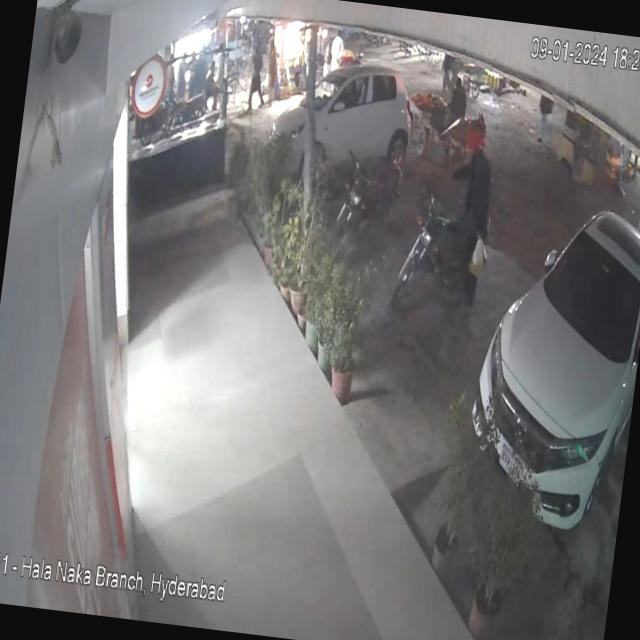Car: (455, 178, 640, 554), (264, 56, 435, 198)
Motorcycle: (376, 175, 496, 322), (321, 137, 405, 258)
